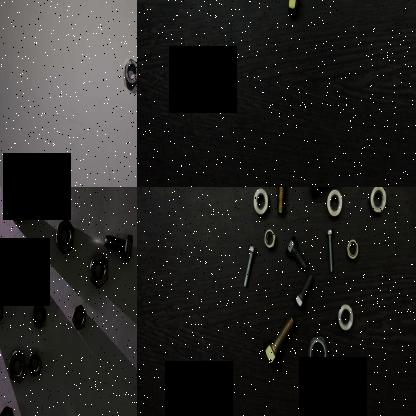Bolts: (263, 316, 295, 370), (99, 231, 136, 264), (284, 229, 308, 274), (293, 274, 314, 312), (272, 187, 295, 219), (326, 224, 337, 280)
NUTS: (52, 215, 76, 257), (306, 332, 330, 373), (86, 251, 110, 291), (0, 242, 21, 283), (4, 349, 26, 384), (336, 300, 356, 334), (122, 52, 137, 94), (367, 187, 387, 217), (251, 188, 271, 218), (28, 348, 44, 382), (325, 187, 343, 217), (30, 301, 48, 329), (70, 304, 88, 330), (346, 236, 360, 266), (8, 197, 24, 223), (262, 227, 276, 255), (284, 0, 300, 18), (0, 403, 14, 416), (0, 296, 4, 328)
